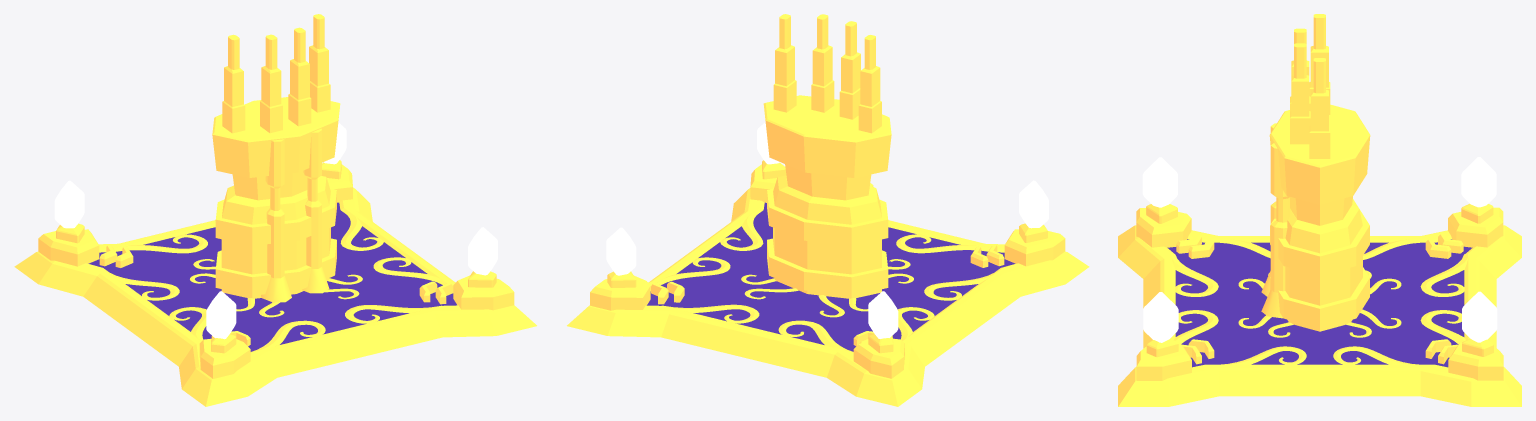
File: 2_aaltar_LE_2.fbx
The picture shows the model from 3 angles, left to right: view 1: azimuth 30°, elevation 25°; view 2: azimuth 150°, elevation 25°; view 3: azimuth 270°, elevation 25°; orthographic projection. The views are drawn at different scales.
Parts seen in each view (by area): view 1: aaltar_LE_2; view 2: aaltar_LE_2; view 3: aaltar_LE_2.
Part boxes in pixels (x1=…): aaltar_LE_2: x1=14, y1=14, x2=536, y2=406; aaltar_LE_2: x1=567, y1=14, x2=1089, y2=406; aaltar_LE_2: x1=1118, y1=14, x2=1521, y2=406.
Size of the model in its own units: 78.77 by 61.06 by 78.73.
